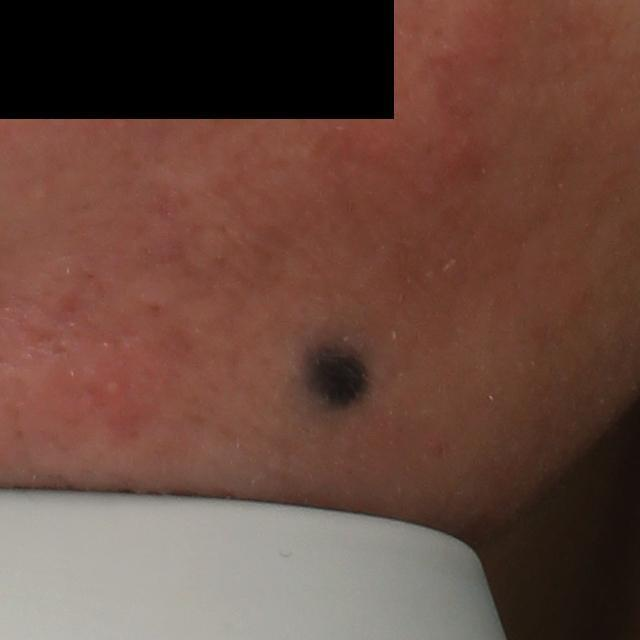nevus: (289, 326, 391, 422)
